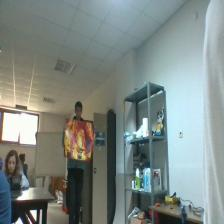fire-poster: (64, 119, 94, 162)
